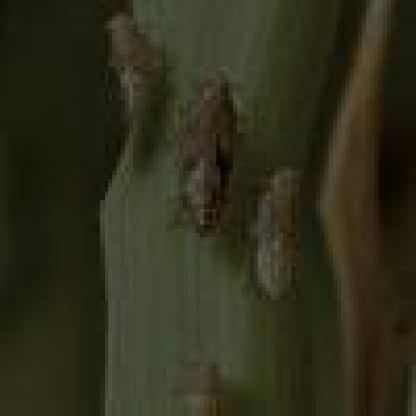brown-planthopper: (171, 70, 243, 238), (103, 13, 163, 174), (248, 166, 310, 302)
